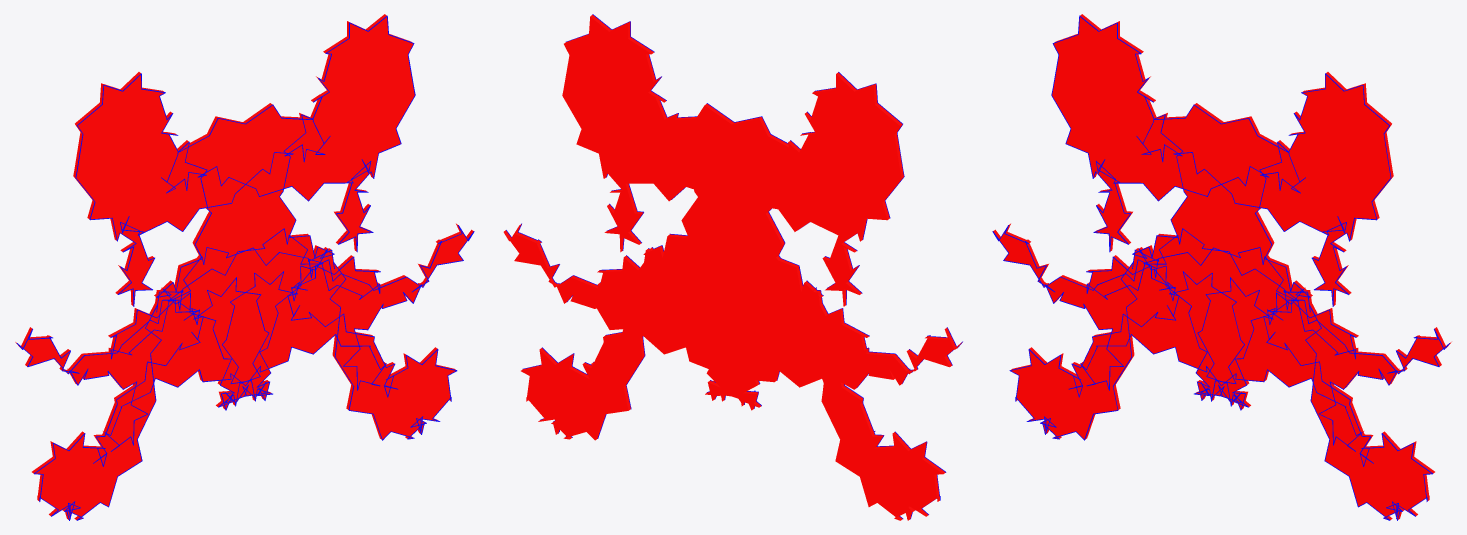
3 renders of one model, left to right at view 1: azimuth 30°, elevation 25°; view 2: azimuth 150°, elevation 25°; view 3: azimuth 330°, elevation 25°, orthographic.
Bounding box in the file's own units: 1 × 0.9028 × 0.0109.
